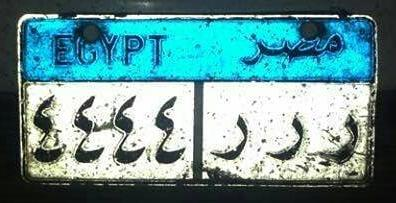4: (67, 92, 106, 166), (111, 95, 147, 171), (152, 95, 188, 167), (30, 91, 65, 165)
raa: (319, 106, 361, 171), (207, 114, 251, 171), (261, 112, 306, 163)
